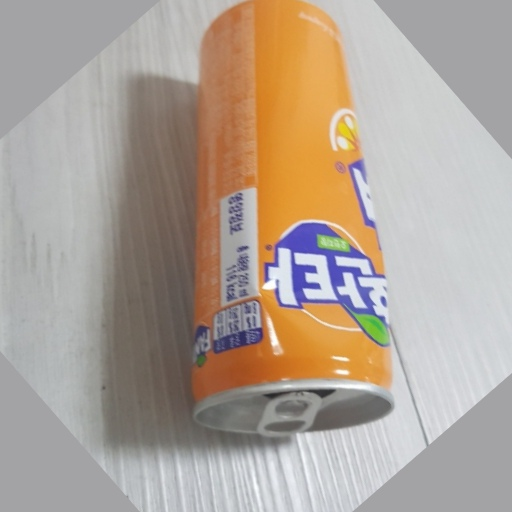Metal_0: (192, 1, 395, 438)
